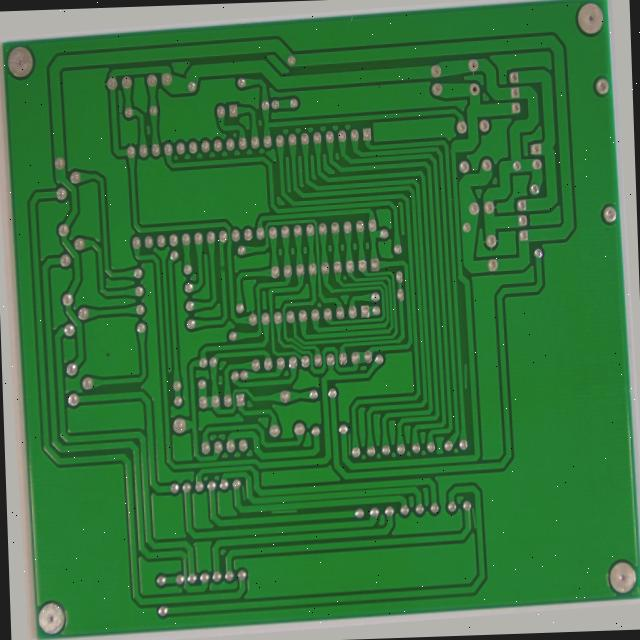spurious_copper: (259, 510, 295, 525), (461, 369, 474, 401), (341, 435, 354, 465), (465, 519, 477, 547), (230, 485, 241, 507)
